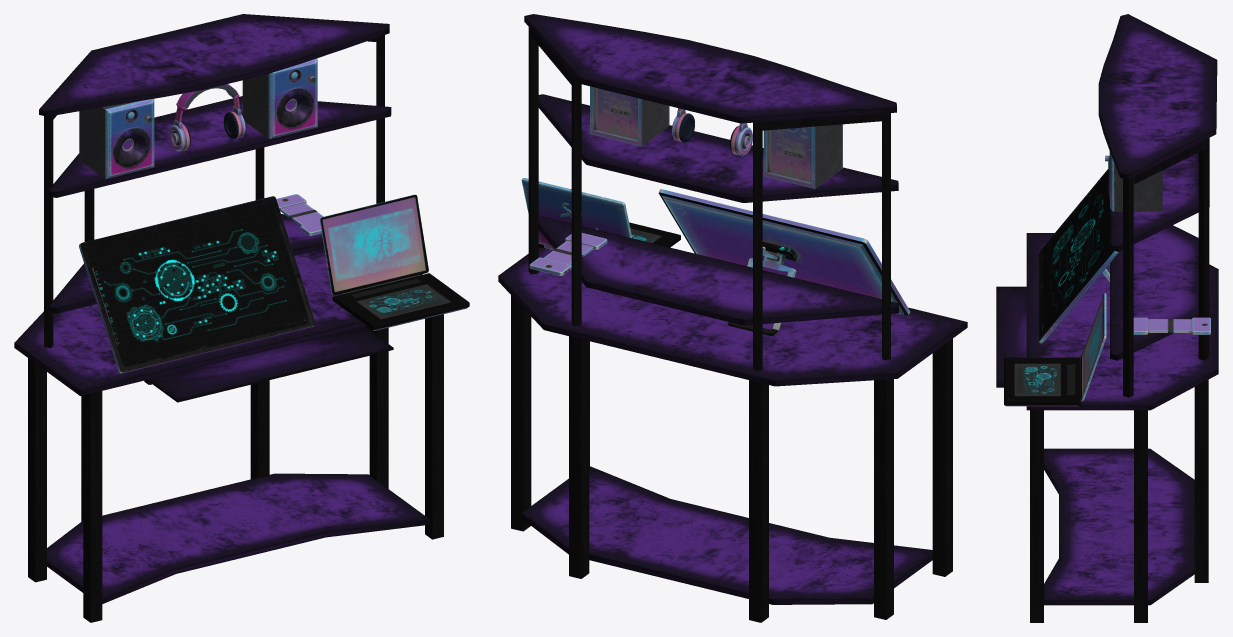
3 views of the same model, side by side, from view 1: azimuth 30°, elevation 25°; view 2: azimuth 150°, elevation 25°; view 3: azimuth 270°, elevation 25° (orthographic). The views are drawn at different scales.
Parts seen in each view (by area): view 1: Desk3, DrawingTablet2, Laptop2, Speaker4, Speaker3, HeadPhones1, PHone1; view 2: Desk3, DrawingTablet2, Speaker4, Laptop2, Speaker3, PHone1, HeadPhones1; view 3: Desk3, DrawingTablet2, Laptop2, Speaker3, PHone1.
Part boxes in pixels (x1=…): Desk3: x1=14, y1=14, x2=443, y2=622; DrawingTablet2: x1=79, y1=196, x2=315, y2=373; Laptop2: x1=319, y1=194, x2=469, y2=330; Speaker4: x1=79, y1=98, x2=154, y2=178; Speaker3: x1=242, y1=58, x2=317, y2=138; HeadPhones1: x1=169, y1=84, x2=245, y2=151; PHone1: x1=276, y1=194, x2=323, y2=235; Desk3: x1=498, y1=14, x2=967, y2=622; DrawingTablet2: x1=658, y1=189, x2=910, y2=336; Speaker4: x1=763, y1=124, x2=842, y2=188; Laptop2: x1=521, y1=178, x2=680, y2=250; Speaker3: x1=590, y1=86, x2=669, y2=146; PHone1: x1=529, y1=233, x2=607, y2=275; HeadPhones1: x1=672, y1=108, x2=752, y2=155; Desk3: x1=996, y1=14, x2=1218, y2=622; DrawingTablet2: x1=1038, y1=169, x2=1118, y2=343; Laptop2: x1=1004, y1=293, x2=1106, y2=406; Speaker3: x1=1105, y1=151, x2=1162, y2=211; PHone1: x1=1133, y1=317, x2=1210, y2=334.
Bounding box in the file's own units: 7.79 × 9.36 × 4.22.
Materials: 6 (6 with a texture image).
